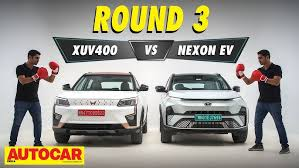XUV 400: (156, 71, 249, 145)
